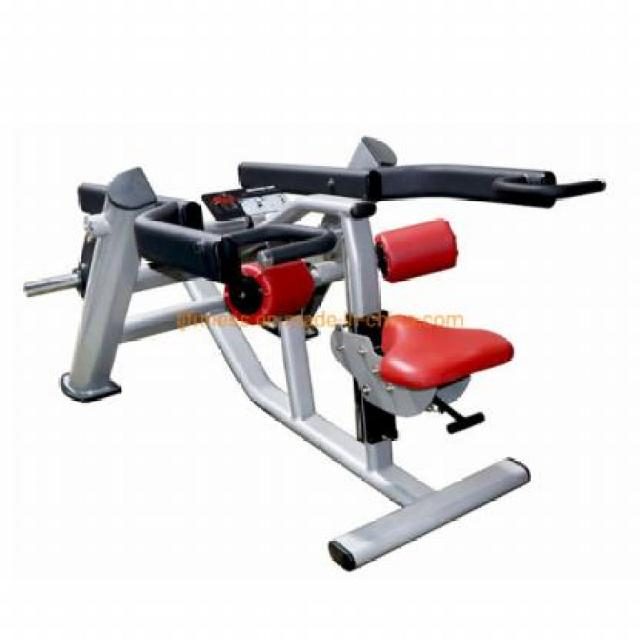seated dip machine: (28, 134, 609, 572)
